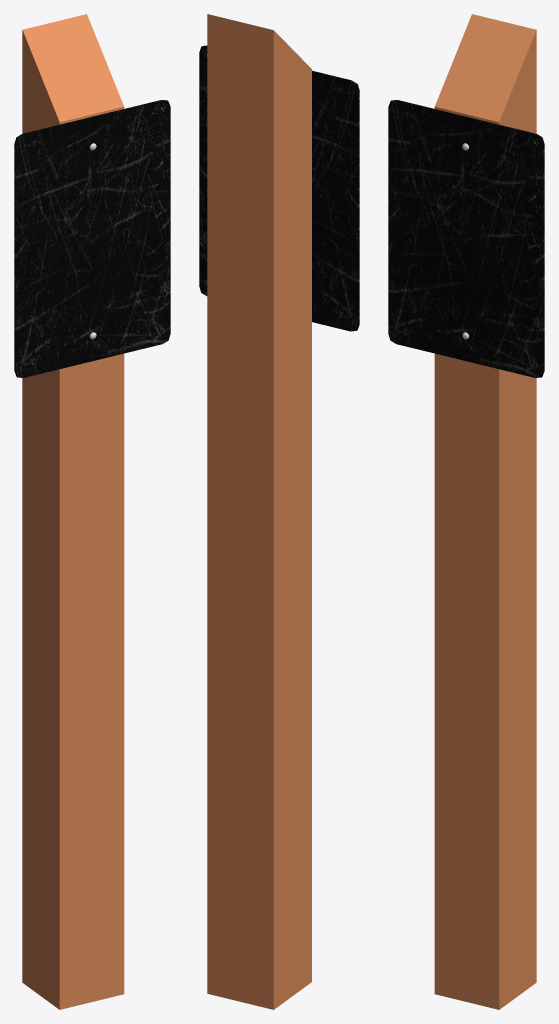
Rendered from post.fbx.
3 renders of one model, left to right at view 1: azimuth 30°, elevation 25°; view 2: azimuth 150°, elevation 25°; view 3: azimuth 330°, elevation 25°, orthographic. The views are drawn at different scales.
Parts seen in each view (by area): view 1: Cube, Plane; view 2: Cube, Plane; view 3: Cube, Plane.
Boxes of the visible parts, x1,y1,x2,y2 form: Cube: [22, 14, 124, 1009]; Plane: [14, 100, 170, 377]; Cube: [207, 14, 311, 1009]; Plane: [199, 45, 359, 331]; Cube: [434, 14, 536, 1009]; Plane: [388, 100, 544, 377].
Bounding box in the file's own units: 24.03 × 141 × 10.62.
